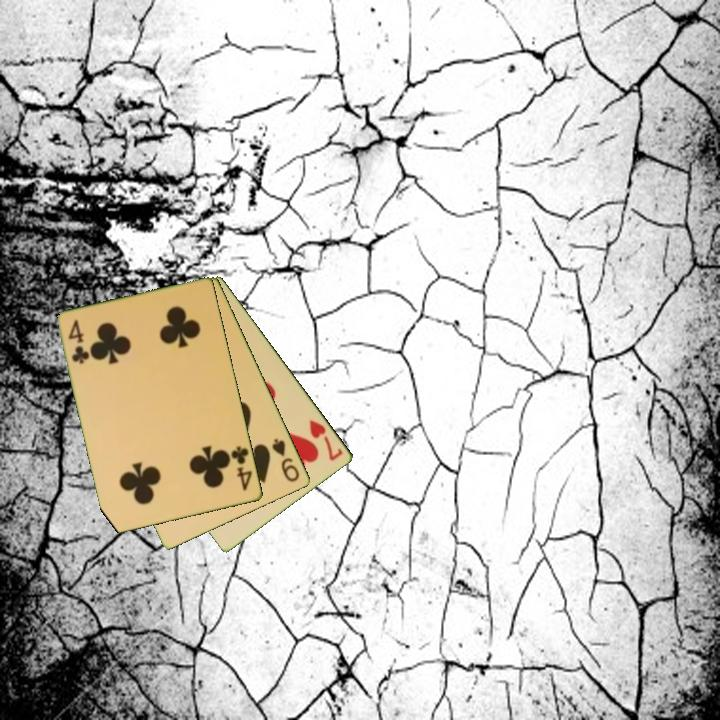4c: (228, 443, 256, 494), (65, 316, 92, 367)
7h: (306, 416, 346, 464)
9s: (269, 435, 303, 485)
